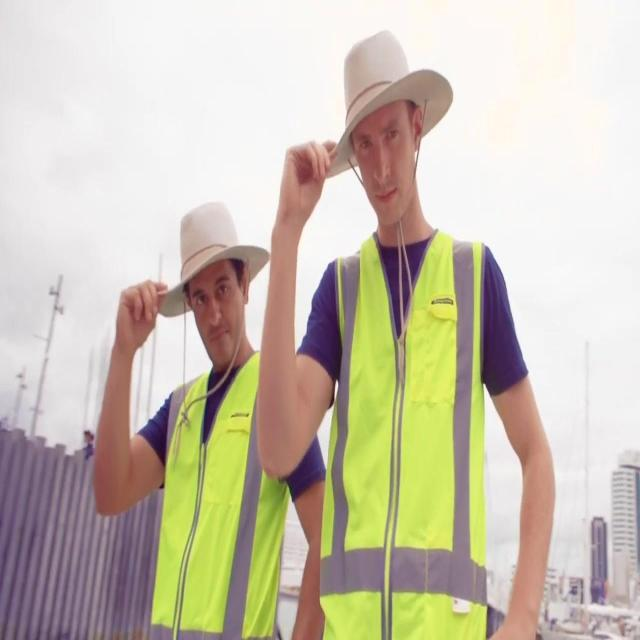Vest: (316, 230, 490, 638), (149, 348, 291, 638)
